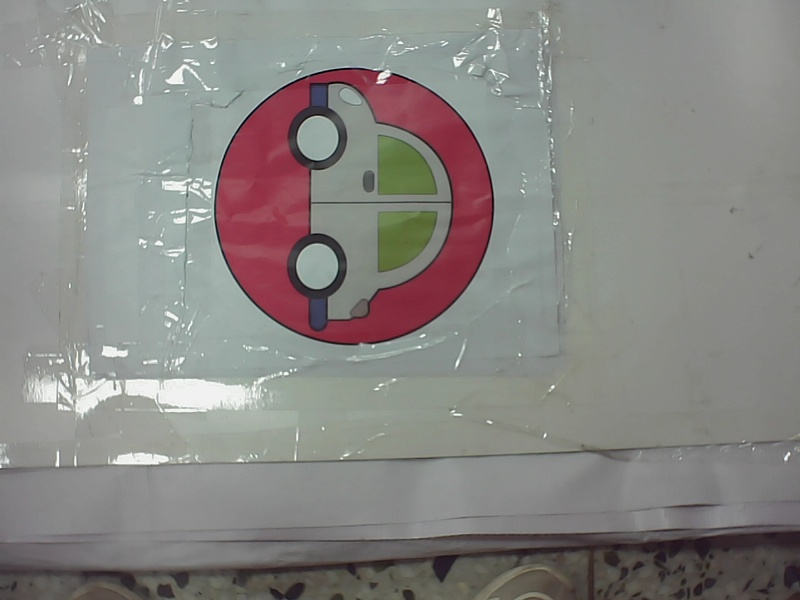areaC: (197, 67, 510, 352)
